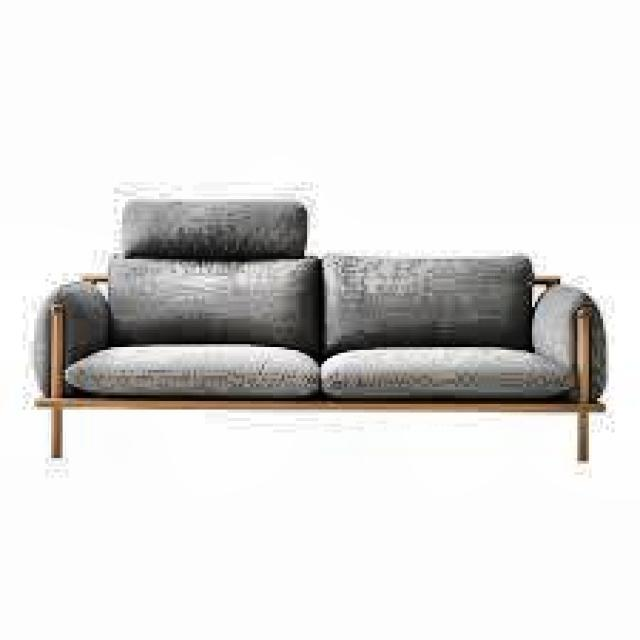sofa: (28, 202, 640, 464)
